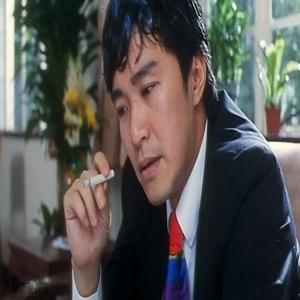cigarette: (78, 169, 117, 189)
